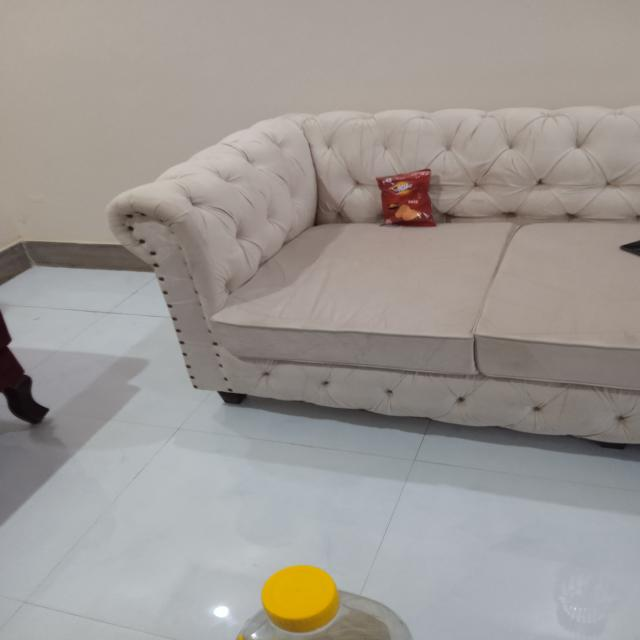Plastic: (373, 166, 445, 231)
